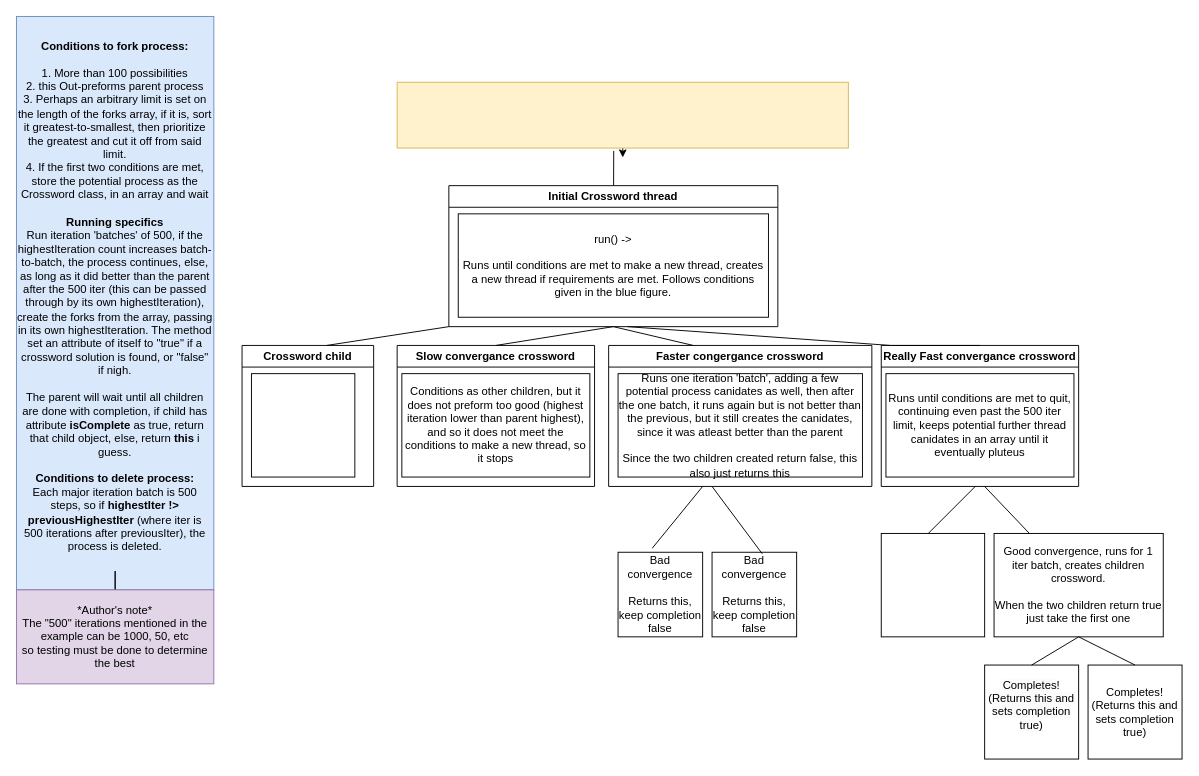
This 1199x776 diagram has some shape labels left out. Each missing label, with the centre of its shape:
Bad convergence, returns this, keep completion false: pixel 932 585
Created by parent crossword, run as a thread: pixel 303 425
CrosswordManager Class: pixel 622 114
